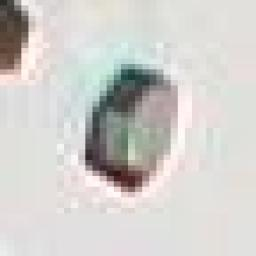crystals: (85, 64, 171, 187)
